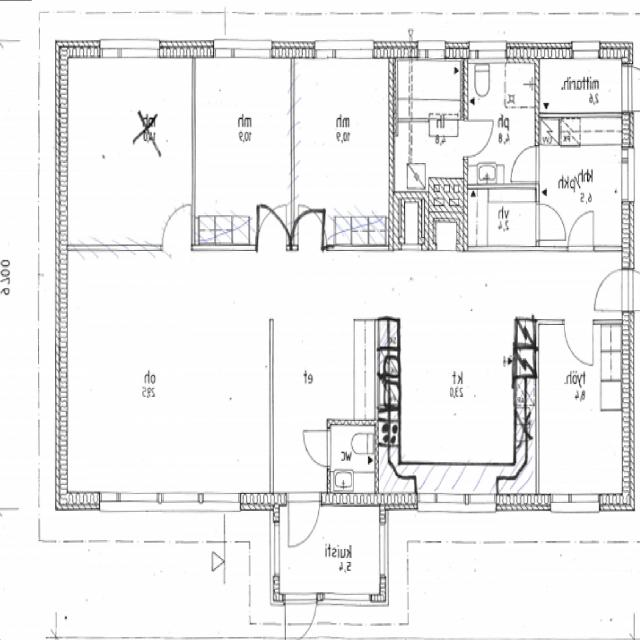door: (256, 198, 290, 251), (288, 493, 319, 551), (289, 198, 322, 251), (594, 271, 634, 310), (285, 594, 316, 640), (565, 318, 593, 366), (534, 204, 564, 240), (568, 209, 593, 252), (462, 121, 492, 156), (302, 431, 331, 467), (510, 147, 539, 180), (622, 66, 640, 110), (622, 271, 640, 310)
